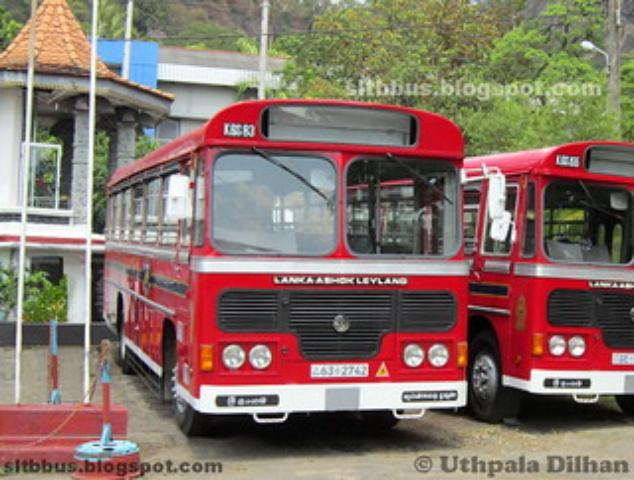bus: (101, 95, 470, 436), (462, 142, 634, 424)
